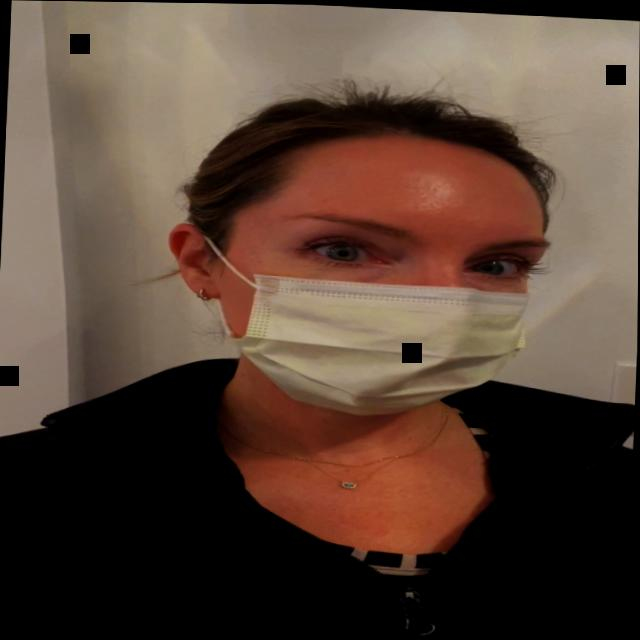Mask: (134, 94, 588, 437)
